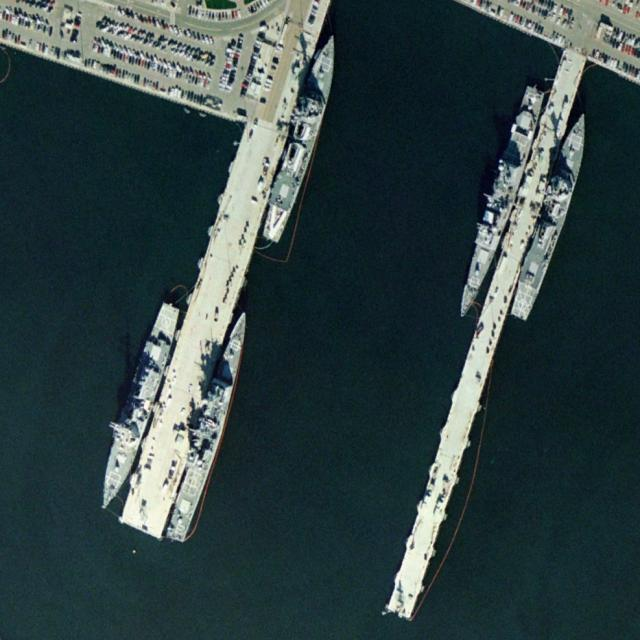Cruiser: (451, 83, 549, 325), (161, 305, 259, 547)
Destroyer: (504, 106, 599, 325), (92, 299, 184, 516), (257, 29, 346, 246)
